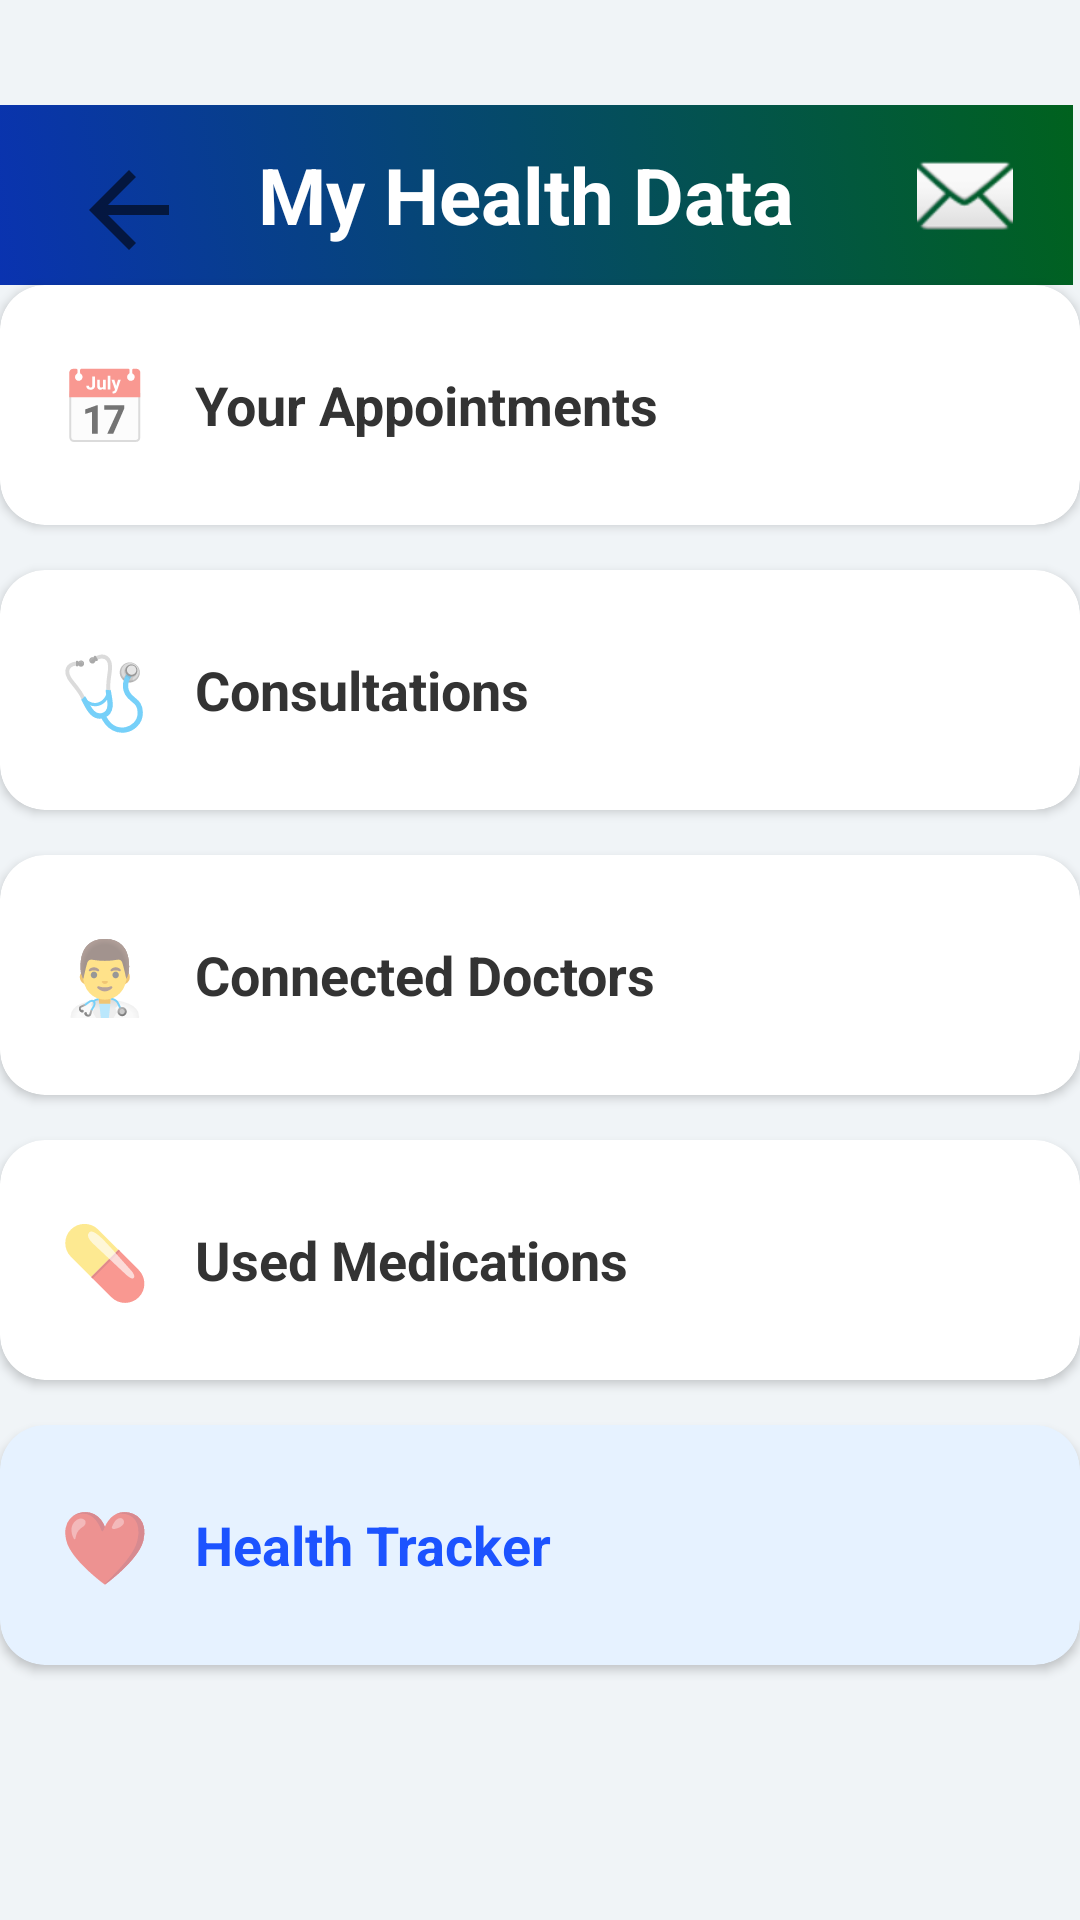

Point at icon controls on the screen. Image size 1080×1920, points as point (x, y).
email: point (965, 196)
